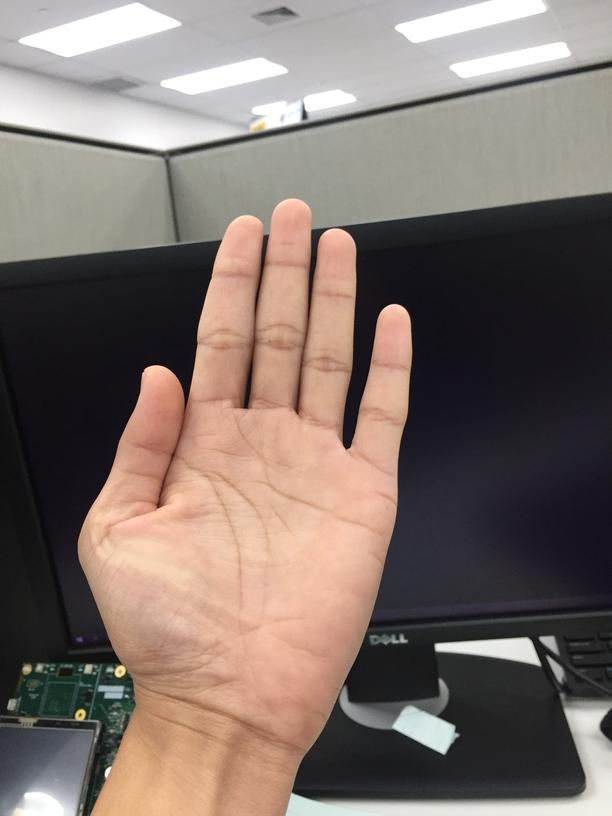hand: (78, 190, 416, 718)
